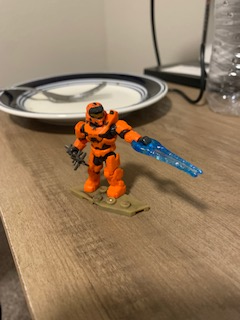spartan: (70, 102, 151, 201)
